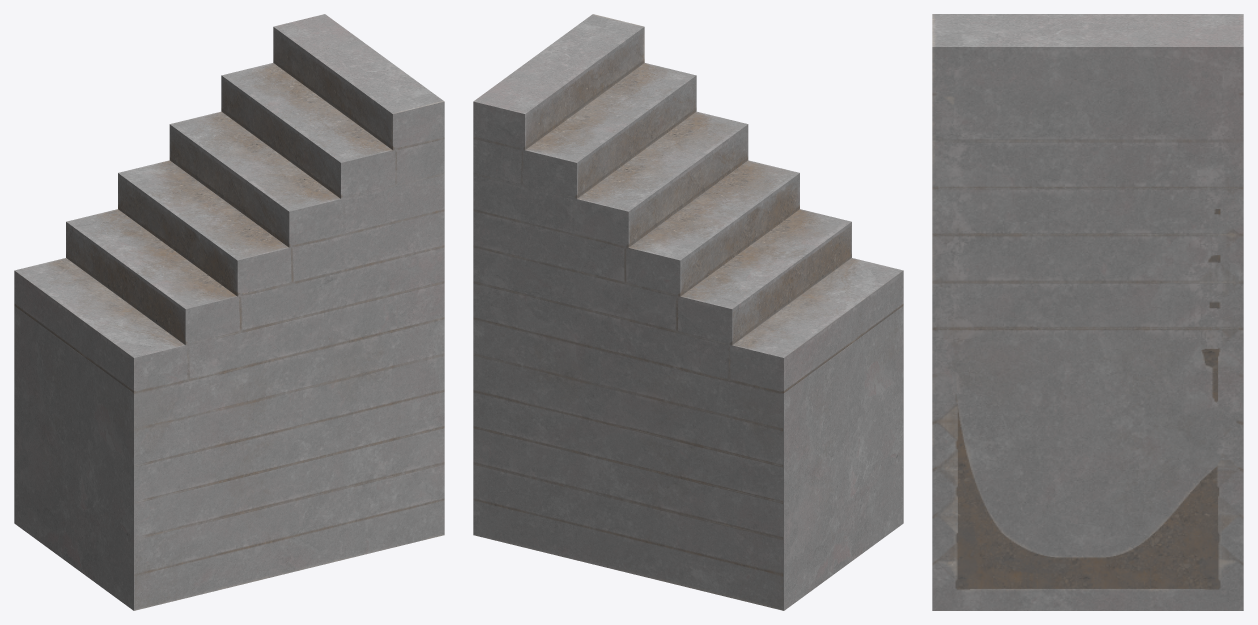
Rendered from SM_Stair01a.fbx.
3 views of the same model, side by side, from view 1: azimuth 30°, elevation 25°; view 2: azimuth 150°, elevation 25°; view 3: azimuth 270°, elevation 25° (orthographic). The views are drawn at different scales.
Parts seen in each view (by area): view 1: SM_Stair01a; view 2: SM_Stair01a; view 3: SM_Stair01a.
Part boxes in pixels (box(x1,y1,x2,y2)): SM_Stair01a: box(14, 14, 444, 610); SM_Stair01a: box(473, 14, 903, 610); SM_Stair01a: box(932, 14, 1243, 610).
Bounding box in the file's own units: 150 × 100 × 200.
Materials: 1 (1 with a texture image).
